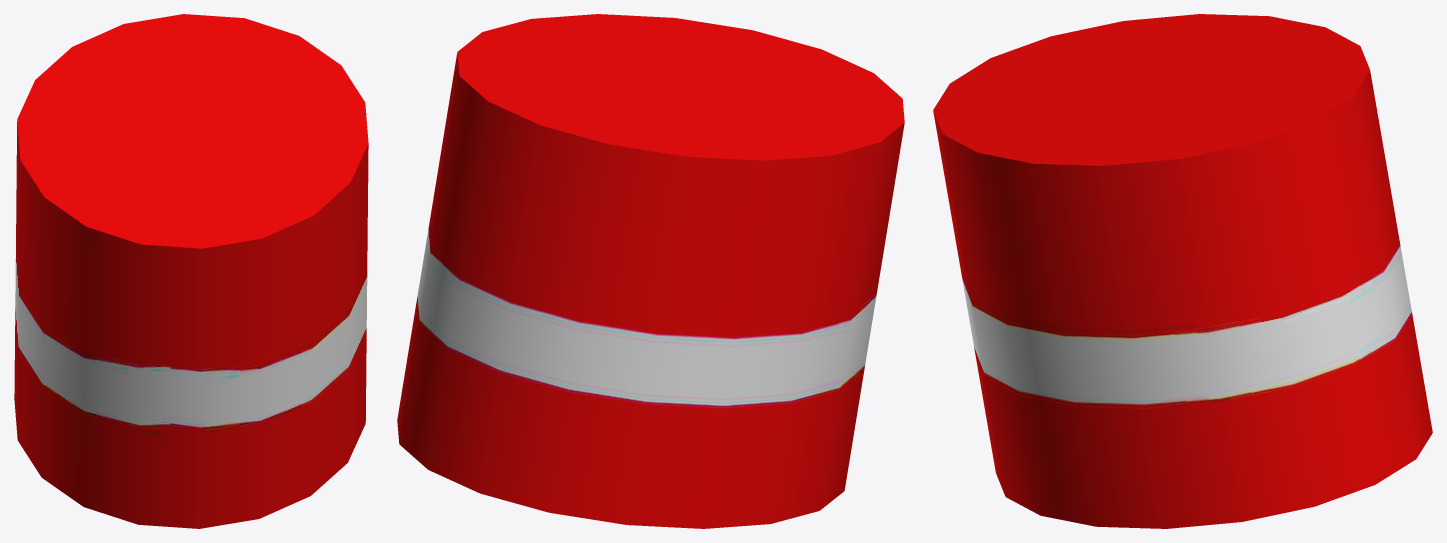
File: Mini_red.FBX
3 views of the same model, side by side, from view 1: azimuth 30°, elevation 25°; view 2: azimuth 150°, elevation 25°; view 3: azimuth 270°, elevation 25° (orthographic). The views are drawn at different scales.
Visible parts, largest first — view 1: Cylinder107; view 2: Cylinder107; view 3: Cylinder107.
Part boxes in pixels (left/top/right/bottom): Cylinder107: left=14, top=14, right=368, bottom=528; Cylinder107: left=397, top=14, right=904, bottom=528; Cylinder107: left=933, top=14, right=1432, bottom=528.
Size of the model in its own units: 5.53 by 6.07 by 5.69.
Materials: 1 (1 with a texture image).
